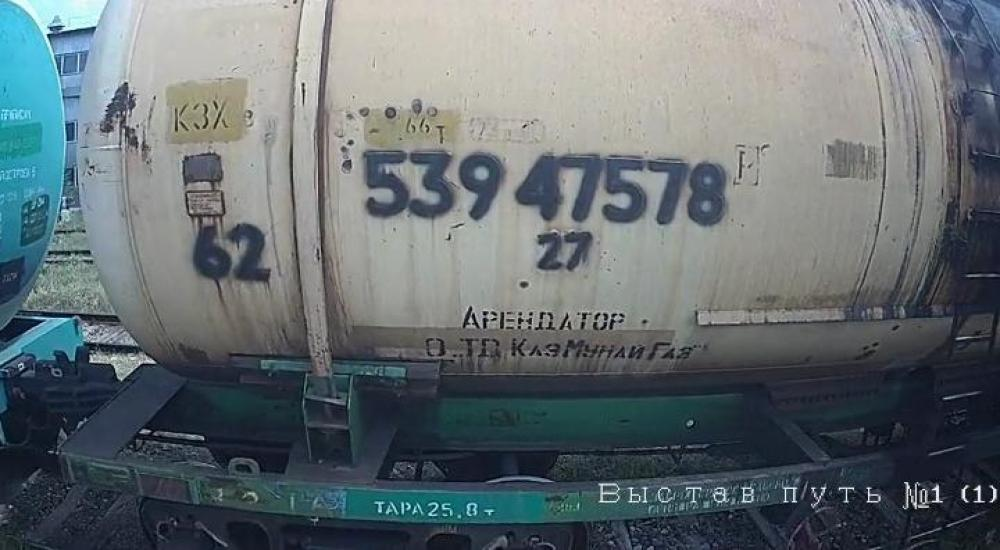Wagon-number: (359, 144, 732, 231)
